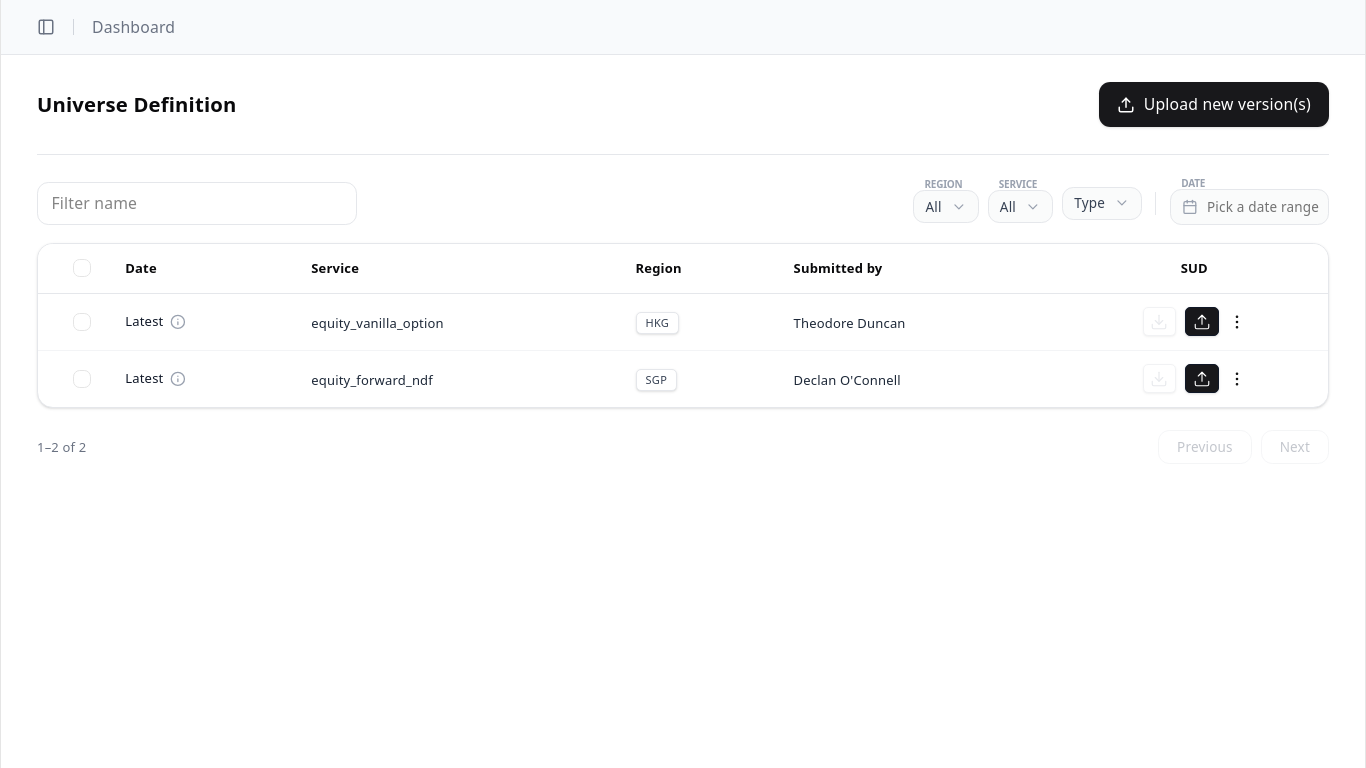
it: UniverseDefinition component › filters table data
Expected: the text "equity_vanilla_option" is shown, left=311, top=314, right=444, bottom=332
Type "Declan" into the field with placeholder "Filter name" at (197, 203), box left=37, top=182, right=357, bottom=225
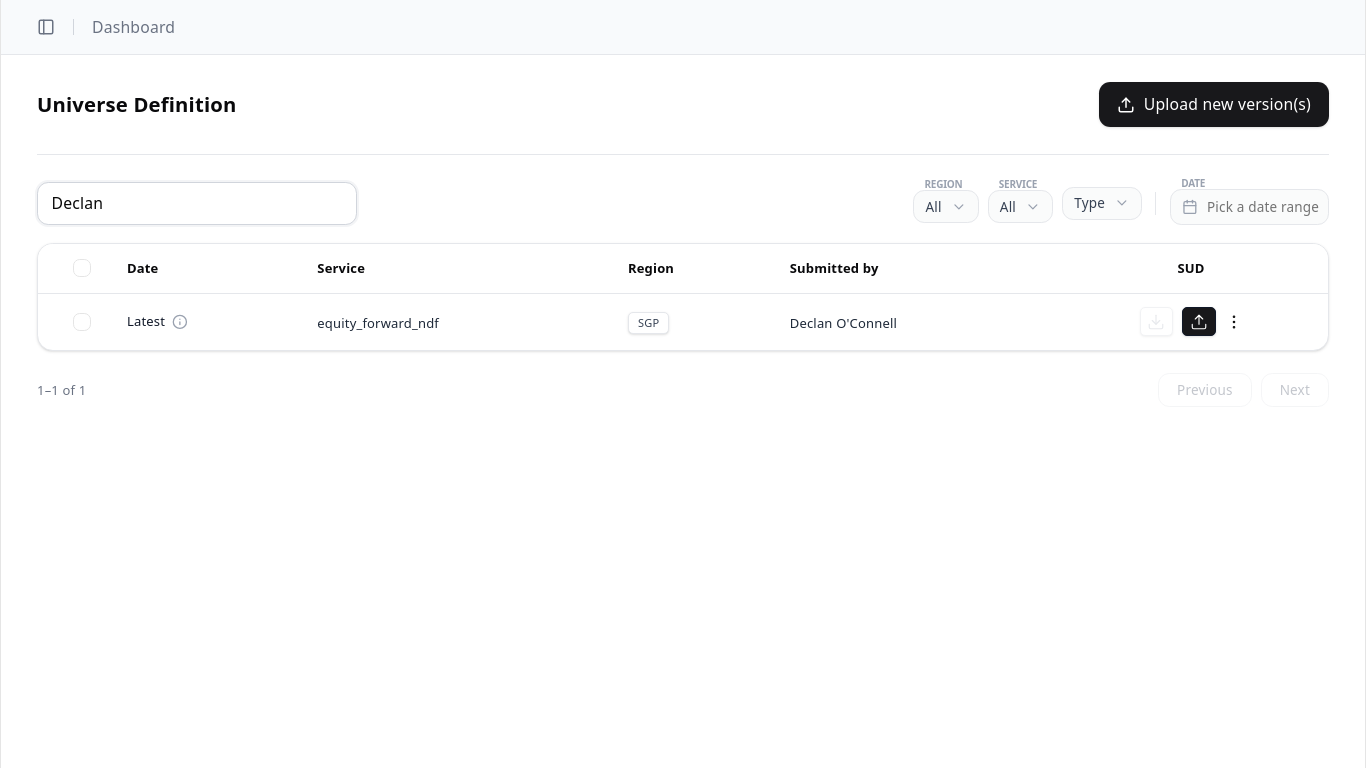
Expected: the text "equity_forward_ndf" is shown, left=317, top=314, right=439, bottom=332
Expected: the text " equity_vanilla_option" is gone
